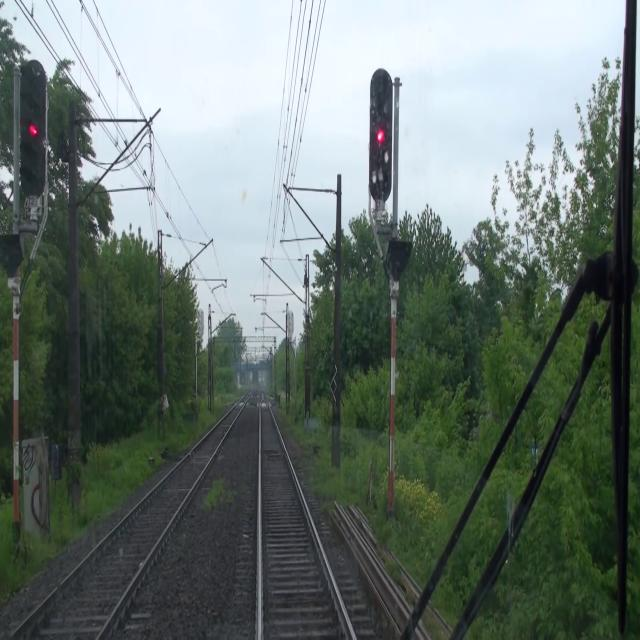rail-track: (13, 401, 243, 639), (262, 403, 351, 639)
